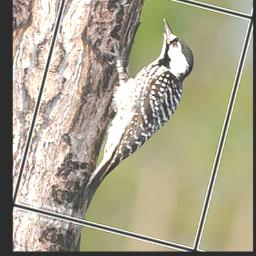Woodpecker: (60, 4, 204, 231)
